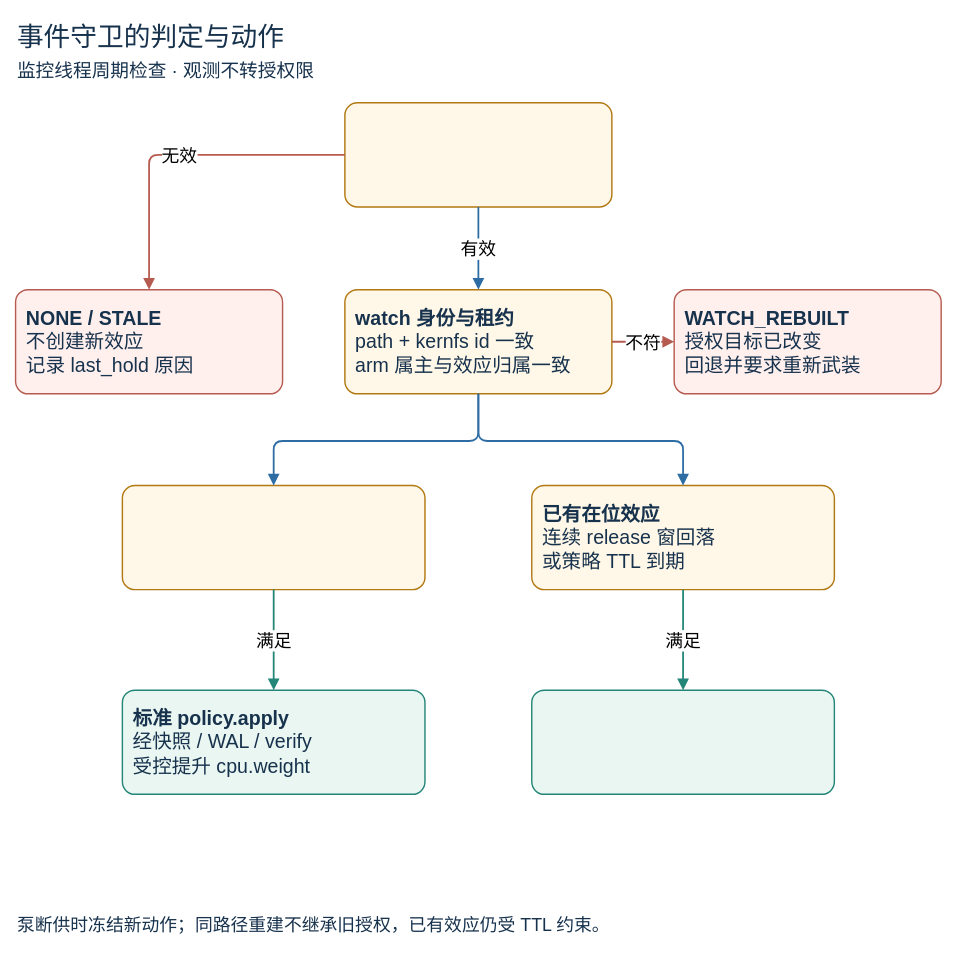
The diagram is 958 pixels wide and 963 high, and some of its shapes have lost their labels. The centre of each missing label's shape, as x and y in pixels:
"尚无在位效应 连续 sustain 窗超阈 才允许提交新动作" goes at point (273, 537).
"新窗口与新鲜度 是否有新的有效证据 过期不猜测负载状态" goes at point (478, 154).
"标准补偿回退 恢复 previous 读回后确认结果" goes at point (683, 742).
